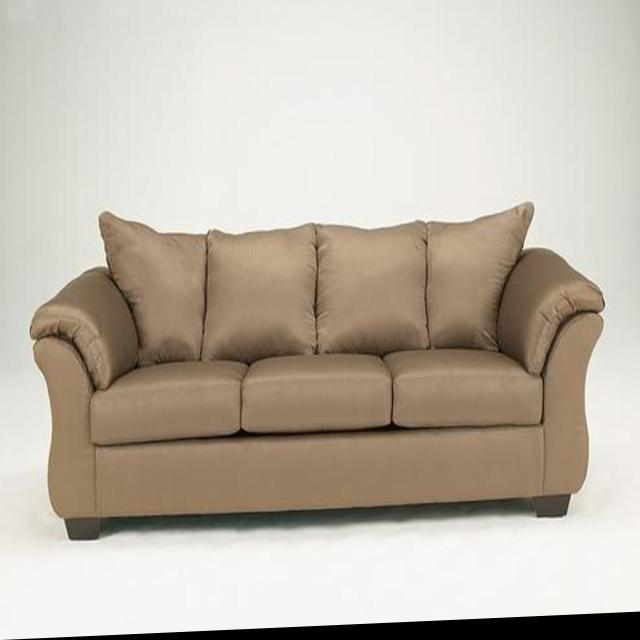Sofa: (40, 202, 605, 542)
